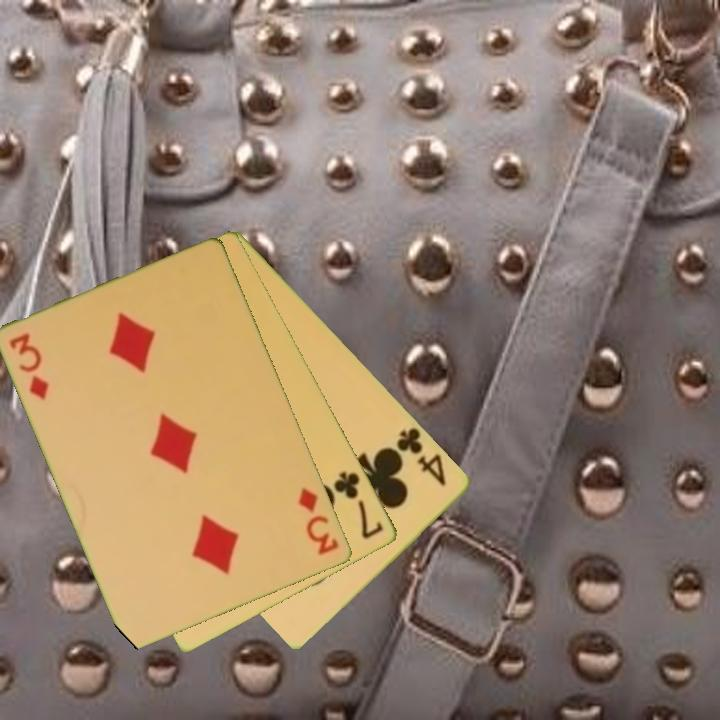3d: (6, 329, 53, 404), (295, 484, 342, 558)
4c: (393, 424, 450, 490)
7c: (330, 468, 387, 542)
